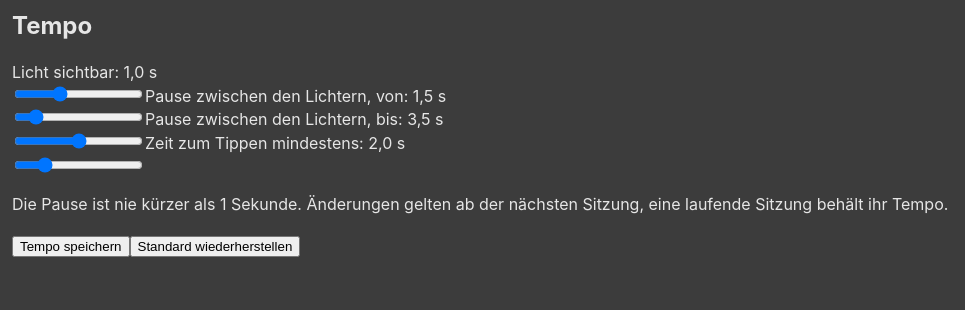
Abschnitt Tempo in der Verwaltung › zeigt Standard, speichert geklemmt, stellt Standard wieder her
Later steps or results of the test are not shown.
Set the slider labelled "Licht sichtbar: 1,0 s" to "1.4" at (97, 94), box [14,86,143,102]
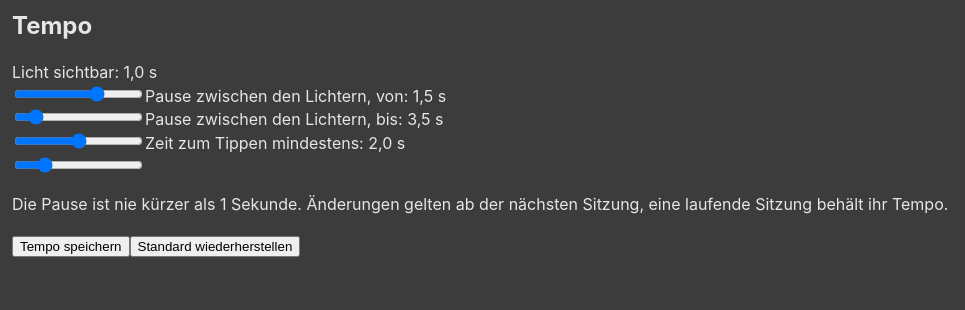
Set the slider labelled "Zeit zum Tippen mindestens: 2,0 s" to "3" at (90, 165), box [14,157,143,173]
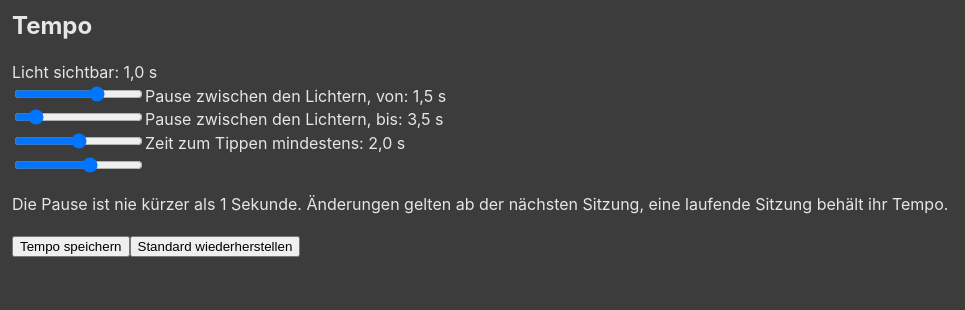
Set the slider labelled "Pause zwischen den Lichtern, von: 1,5 s" to "4.5" at (121, 117), box [14,109,143,125]
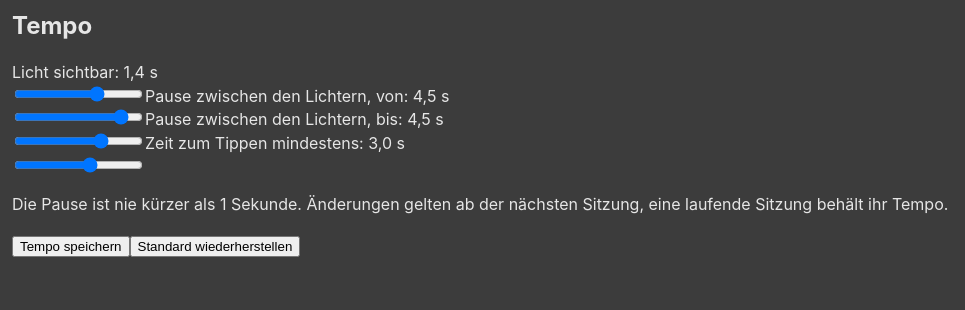
Expected: the text "Pause zwischen den Lichtern, bis: 4,5 s" is shown, [12,109,444,153]
Click the button "Tempo speichern" at (71, 246), box [12,236,130,257]
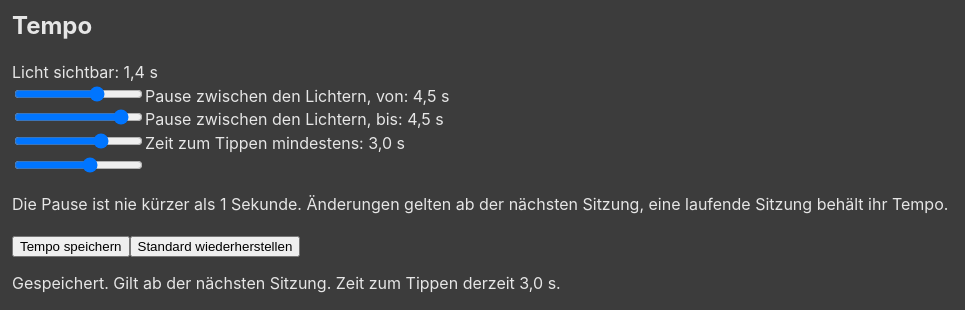
Expected: the text "ab der nächsten Sitzung" is shown, [12,194,948,214]
Click the button "Standard wiederherstellen" at (215, 246), box [130,236,300,257]
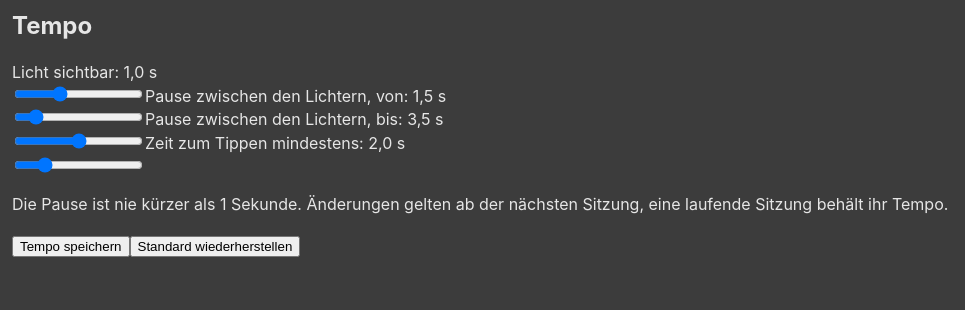
Expected: the text "Licht sichtbar: 1,0 s" is shown, [12,62,157,106]
